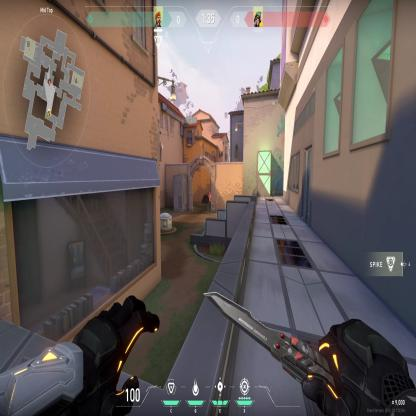enemy: (208, 190, 210, 208)
